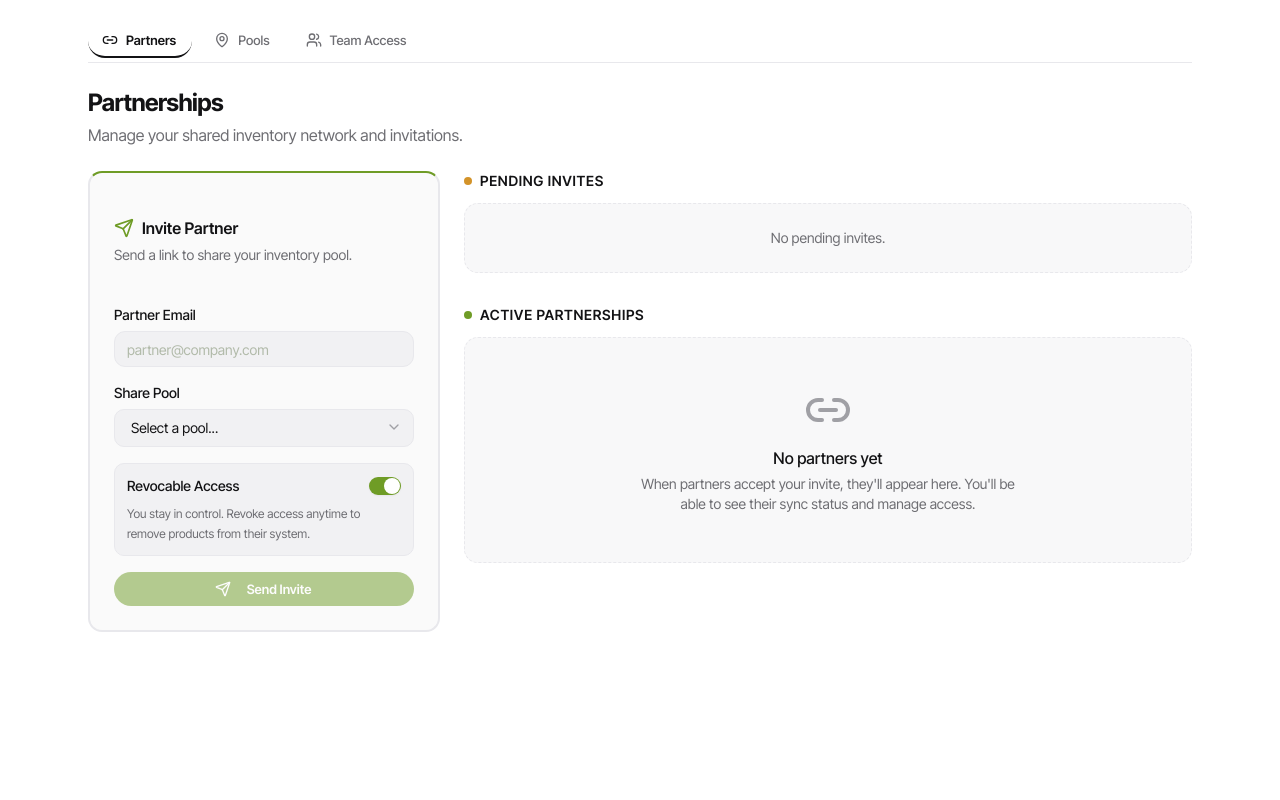
Test case: opens exactly one create-location dialog
Click the button "Pools". click: (242, 41)
box: x1=200 y1=24 x2=284 y2=58
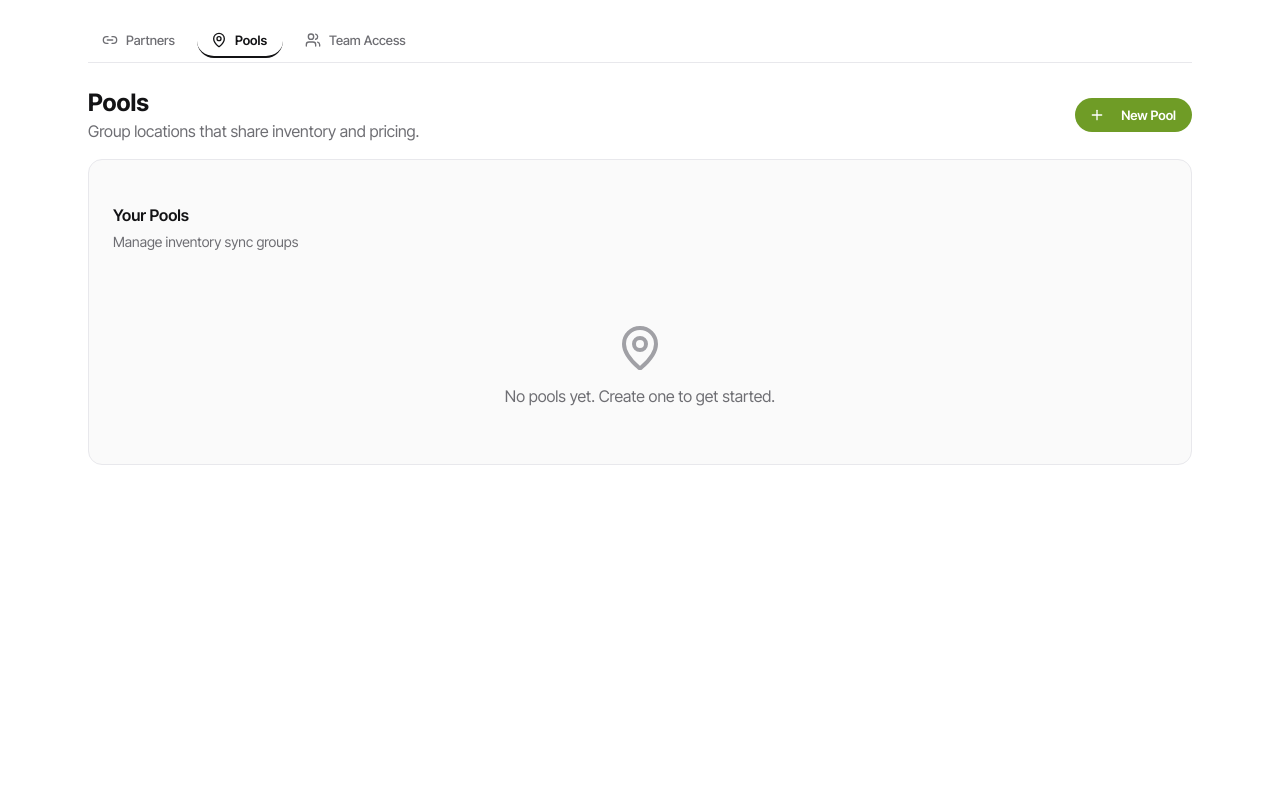
Click the button "New Pool". click: (1134, 115)
box: x1=1075 y1=98 x2=1192 y2=132
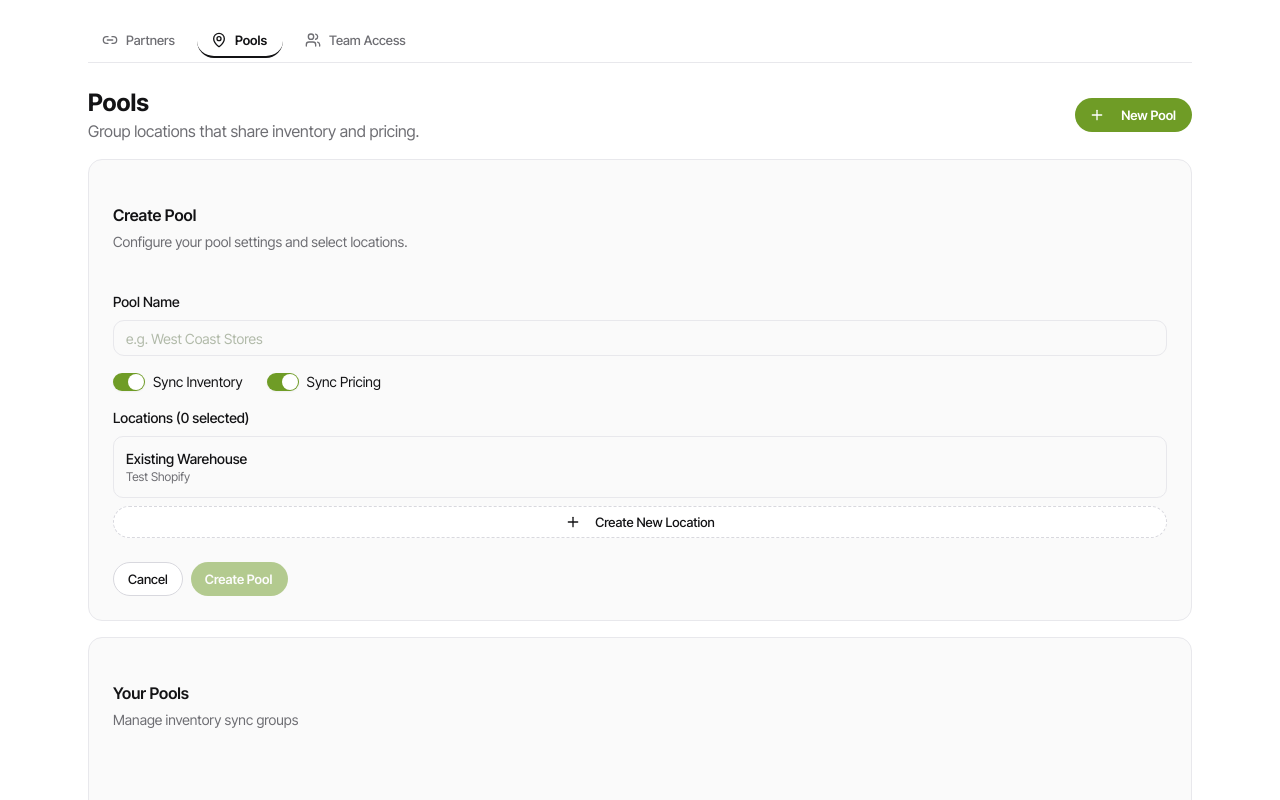
Click the button "Create New Location". click: (640, 522)
box: x1=113 y1=506 x2=1167 y2=538
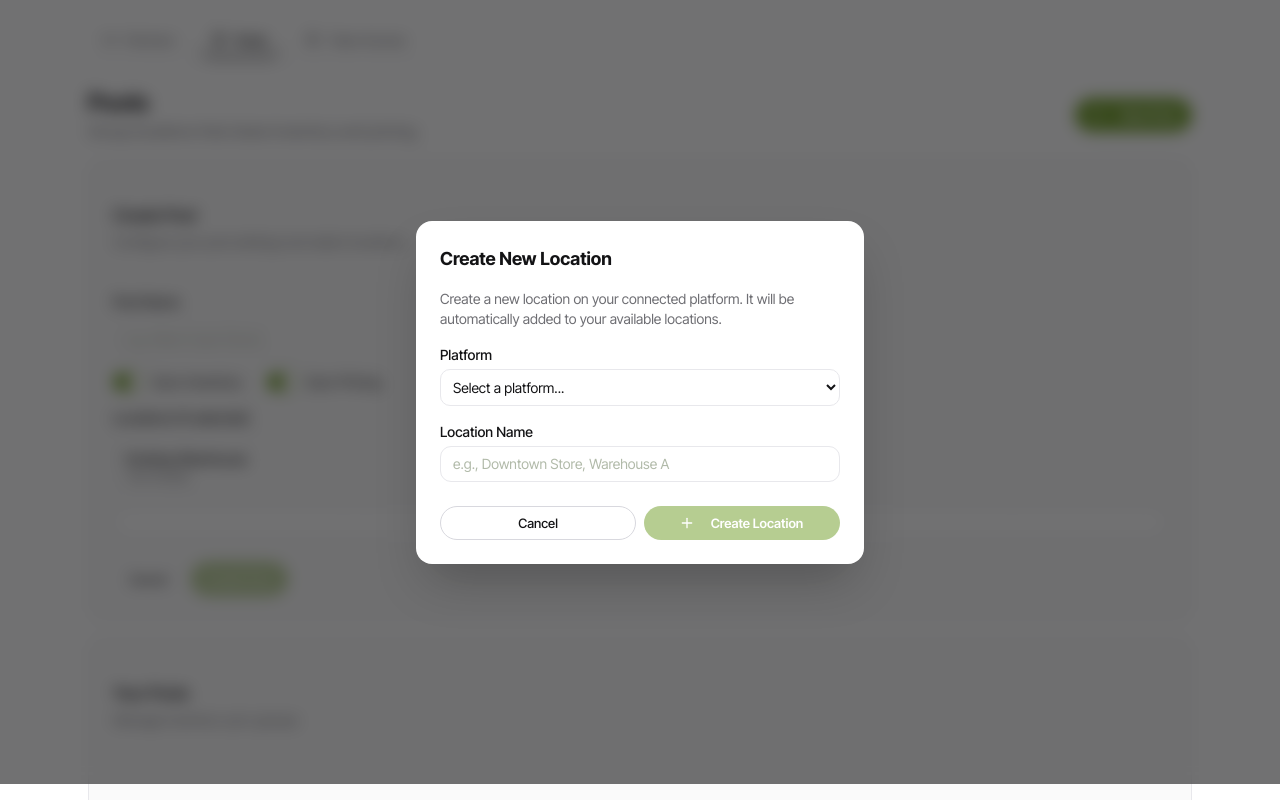
Result: the number of headings "Create New Location" is 1 at x1=440 y1=248 x2=612 y2=268
Result: the dropdown is shown at x1=440 y1=368 x2=840 y2=406
